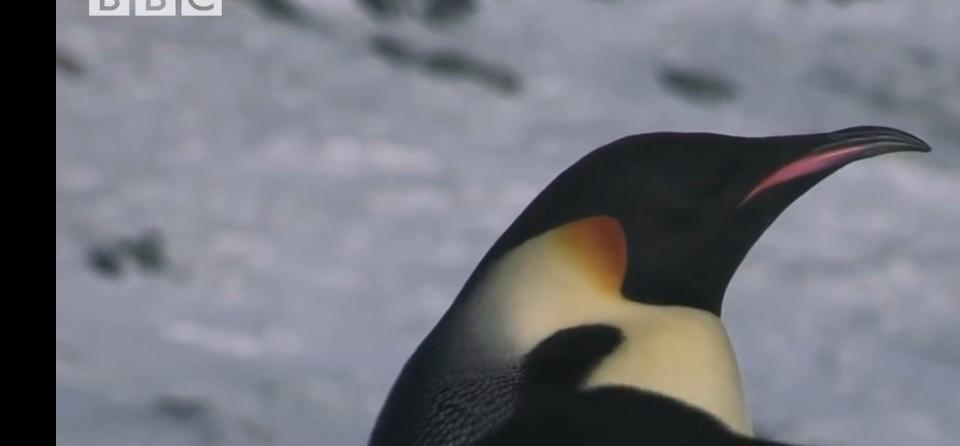Emperor Penguin: (373, 105, 946, 394), (236, 377, 908, 446), (864, 80, 960, 446)
